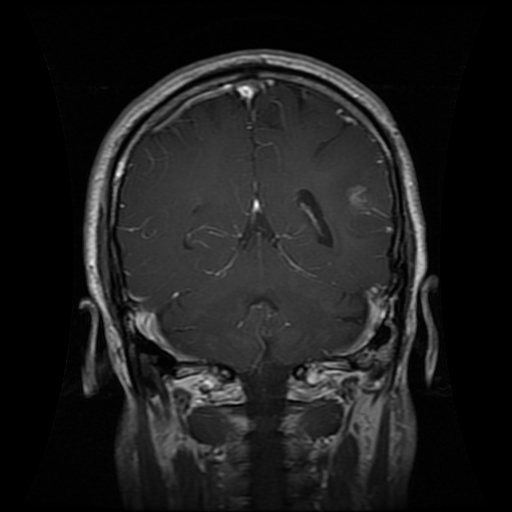glioma: (297, 187, 334, 249)
